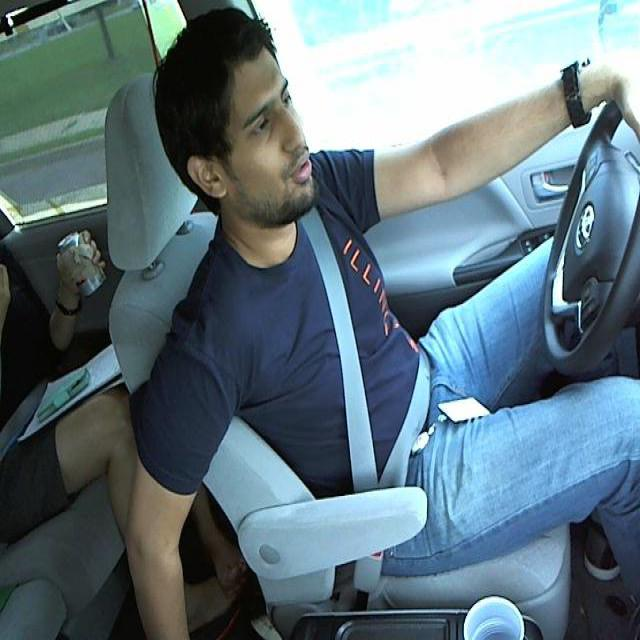seatbelt: (296, 216, 443, 497)
